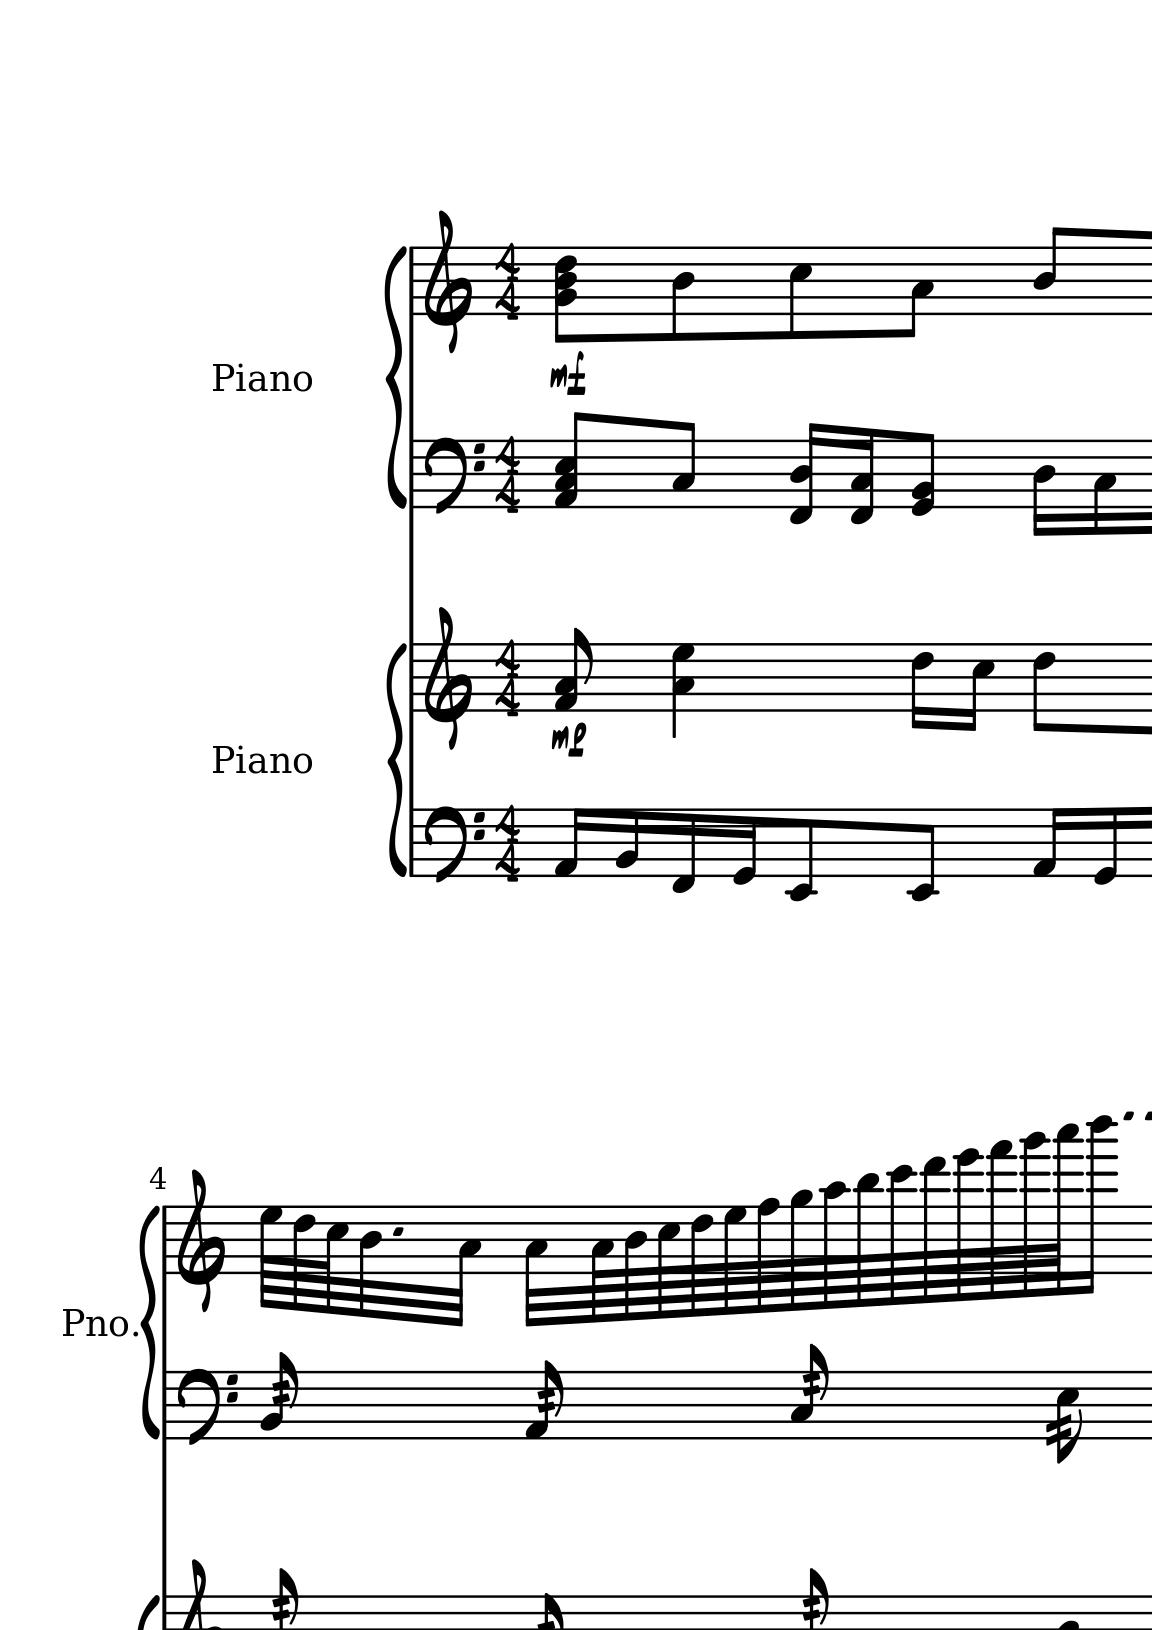16_-1: (670, 808, 698, 896)
16_-1_3: (847, 426, 876, 523)
16_-1_4: (789, 420, 822, 527)
16_0: (1092, 805, 1120, 889), (731, 808, 759, 887)
16_1: (1031, 806, 1067, 880), (551, 808, 587, 880)
16_2: (613, 808, 640, 879)
16_20: (1081, 1113, 1118, 1295)
16_3: (1092, 437, 1118, 537)
16_4: (1031, 437, 1057, 540)
16_5: (966, 642, 996, 733)
16_6: (910, 642, 935, 732)
32_3: (449, 1204, 482, 1328), (522, 1203, 549, 1328)
32_4: (357, 1203, 384, 1321)
4: (492, 242, 526, 283), (494, 636, 525, 679), (492, 803, 525, 844), (495, 432, 526, 475), (494, 280, 525, 320), (495, 675, 525, 715), (495, 842, 525, 881), (495, 474, 524, 513), (148, 1164, 168, 1193)
4_3_7: (670, 642, 696, 739)
64_11: (789, 1188, 814, 1313)
64_12: (819, 1180, 849, 1311)
64_13: (852, 1171, 884, 1308)
64_14: (885, 1164, 918, 1306)
64_15: (918, 1155, 951, 1304)
64_16: (951, 1146, 985, 1304)
64_17: (985, 1138, 1017, 1300)
64_18: (1019, 1130, 1051, 1299)
64_19: (1051, 1122, 1083, 1296)
64_5: (320, 1204, 348, 1317), (588, 1205, 613, 1323)
64_6: (623, 1204, 647, 1322), (292, 1206, 314, 1313)
64_7: (656, 1203, 679, 1320), (258, 1203, 281, 1313)
64_8: (754, 1196, 780, 1313), (689, 1204, 713, 1318)
64_9: (722, 1204, 746, 1316)
8_-2: (906, 808, 939, 903), (785, 808, 815, 903)
8_0_2: (913, 431, 936, 516)
8_1_3: (554, 627, 595, 713)
8_3: (900, 244, 936, 340), (670, 420, 696, 510)
8_4: (1031, 226, 1066, 318), (670, 245, 696, 344)
8_5: (787, 244, 813, 341)
8_6: (1030, 641, 1065, 736)
8_th: (552, 407, 588, 513), (551, 244, 577, 344)
Brace: (382, 242, 409, 513), (385, 641, 406, 882), (140, 1203, 160, 1444)
Fclef: (175, 1367, 239, 1448), (423, 805, 485, 885), (424, 435, 485, 516)
Gclef: (423, 604, 473, 751), (175, 1165, 224, 1312), (423, 208, 473, 353)
Pno: (207, 359, 315, 396), (208, 741, 315, 778), (60, 1305, 127, 1342)
Single_barline: (404, 247, 421, 315), (405, 643, 421, 713), (405, 440, 421, 508), (158, 1208, 175, 1274), (405, 810, 420, 876), (160, 1372, 175, 1438)
Stem: (788, 1341, 833, 1441), (1042, 1370, 1083, 1466), (258, 1352, 302, 1441), (526, 1360, 565, 1441)
TimeSig: (494, 436, 525, 517), (492, 638, 524, 719), (492, 244, 524, 323), (494, 805, 522, 885)
mf: (549, 350, 587, 398)
mp: (549, 722, 588, 756)
